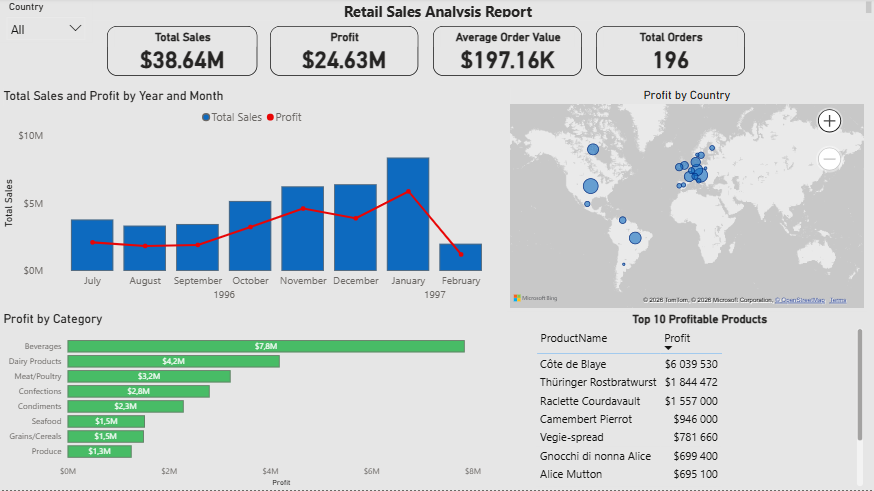

Layout of this report page (visuals, bound fields, positions):
{"tool":"powerbi","page":{"name":"Report","canvas":[1280,720],"ordinal":0},"visuals":[{"type":"textbox","box":[10,0,1270,33.3],"z":0},{"type":"card","title":"Total Sales","fields":{"Values":["fOrderdetails.Total Sales"]},"box":[156.7,41.7,220,73.3],"z":1000},{"type":"card","title":"Profit","fields":{"Values":["fOrderdetails.Profit"]},"box":[395,41.7,216.7,73.3],"z":2000},{"type":"card","title":"Average Order Value","fields":{"Values":["fOrders.Average Order Value"]},"box":[633.3,41.7,218.3,73.3],"z":3000},{"type":"card","title":"Total Orders","fields":{"Values":["fOrders.Total Orders"]},"box":[871.7,41.7,218.3,73.3],"z":4000},{"type":"slicer","fields":{"Values":["dCustomers.Country"]},"box":[0,0,135,65],"z":5000},{"type":"lineClusteredColumnComboChart","fields":{"Y":["fOrderdetails.Total Sales"],"Y2":["fOrderdetails.Profit"],"Category":["dDate.FullDate.Variation.Date Hierarchy.Year","dDate.FullDate.Variation.Date Hierarchy.Month"]},"box":[0,132.2,742.2,326.7],"z":6000},{"type":"barChart","title":"Profit by Category","fields":{"Category":["dCategories.CategoryName"],"Y":["fOrderdetails.Profit"]},"box":[0,458.3,741.7,261.7],"z":7000},{"type":"map","title":"Profit by Country","fields":{"Category":["dCustomers.Country"],"Size":["fOrderdetails.Profit"]},"box":[741.7,131.7,526.7,326.7],"z":8000},{"type":"tableEx","title":"Top 10 Profitable Products","fields":{"Values":["dProducts.ProductName","fOrderdetails.Profit"]},"box":[780,460,488.3,260],"z":9000}]}

Visuals, with their boxes in screenshot pixels (x1, y1, x2, y2), scaled from the page's 1280x720 canvas onto the 874x491 screenshot:
textbox: bbox(7, 0, 873, 23)
"Total Sales" card: bbox(107, 28, 257, 78)
"Profit" card: bbox(270, 28, 418, 78)
"Average Order Value" card: bbox(432, 28, 581, 78)
"Total Orders" card: bbox(595, 28, 744, 78)
slicer - dCustomers.Country: bbox(0, 0, 92, 44)
lineClusteredColumnComboChart - fOrderdetails.Total Sales x fOrderdetails.Profit: bbox(0, 90, 507, 313)
"Profit by Category" barChart: bbox(0, 313, 506, 490)
"Profit by Country" map: bbox(506, 90, 866, 313)
"Top 10 Profitable Products" tableEx: bbox(533, 314, 866, 490)
